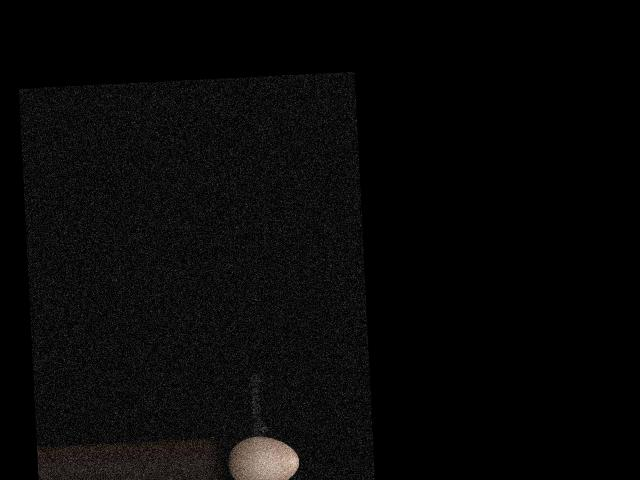egg: (226, 435, 300, 480)
